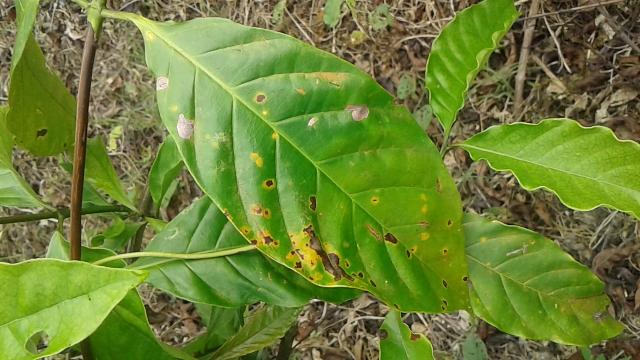rust_level_4: (142, 19, 468, 310)
